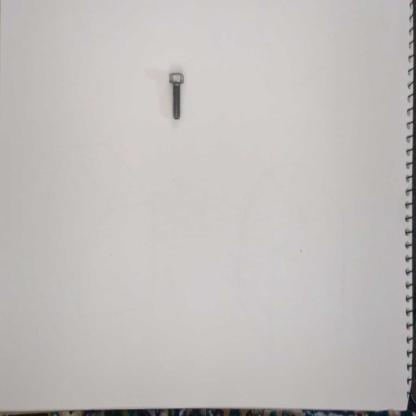Bolts: (167, 70, 188, 125)
